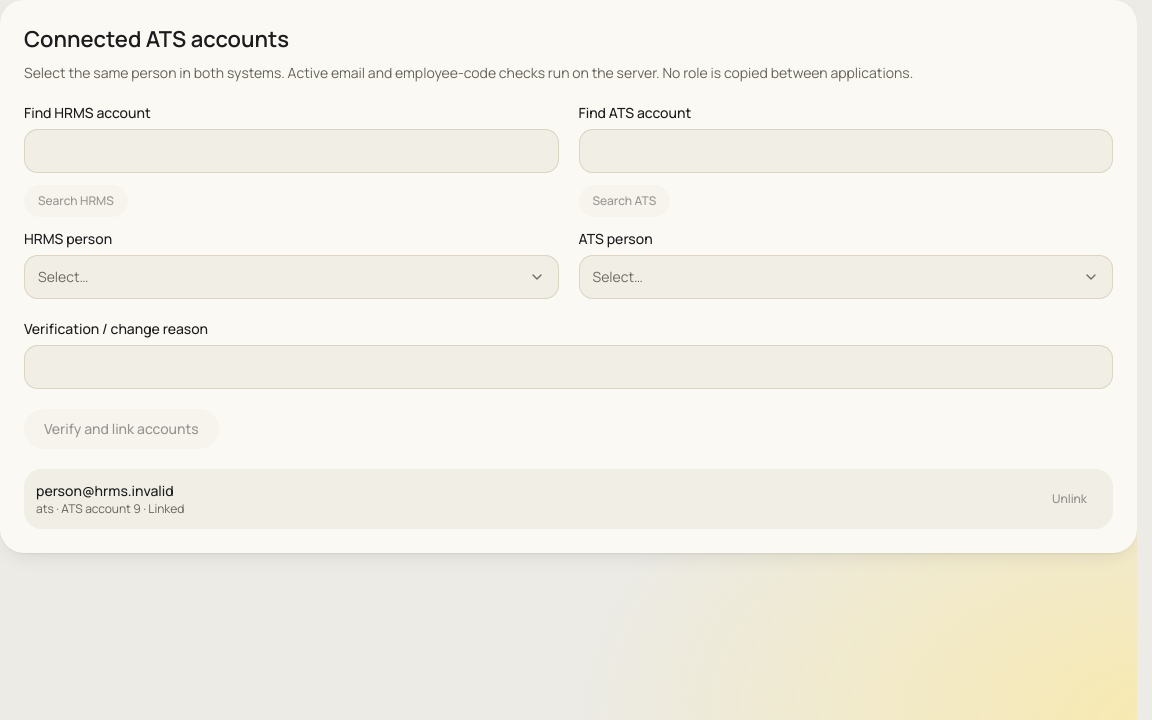
Test: retains the reason and shows a failed unlink instead of claiming success
The width and height of the screenshot is (1152, 720).
Check: the button "Unlink" is disabled, box [1038,483,1101,515]
In the field labelled "Verification / change reason": (568, 367) [24,345,1113,389], type "Access removed"
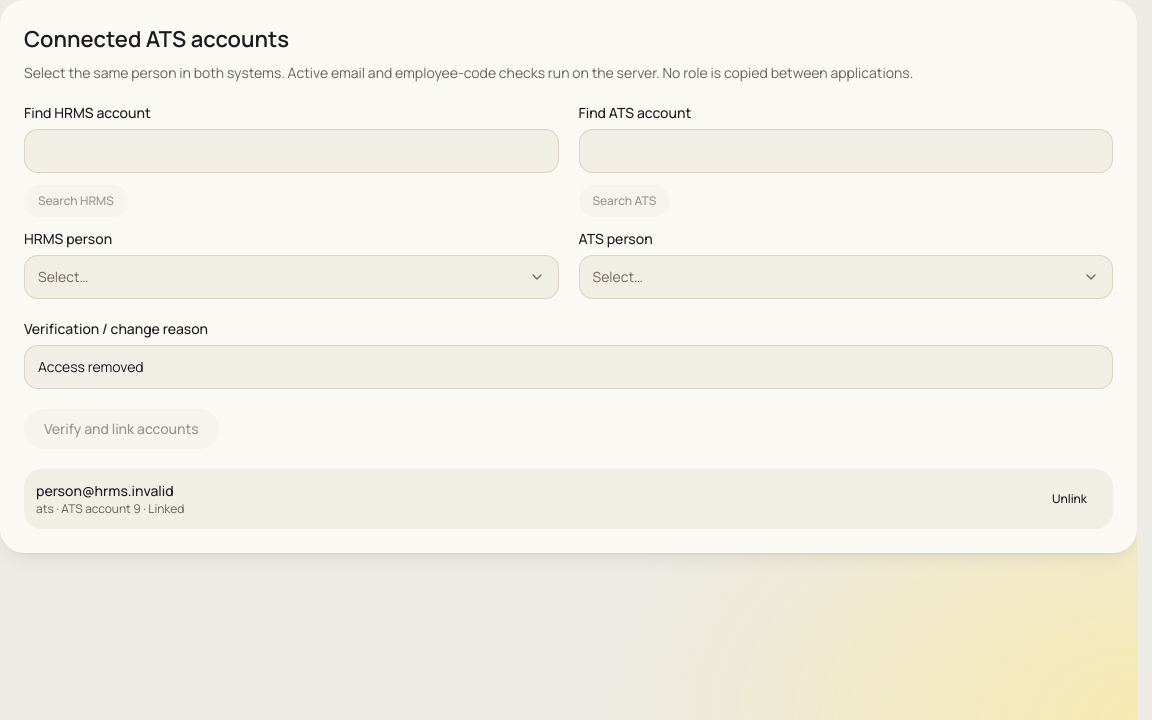
Click the button "Unlink": (1069, 499) [1038,483,1101,515]
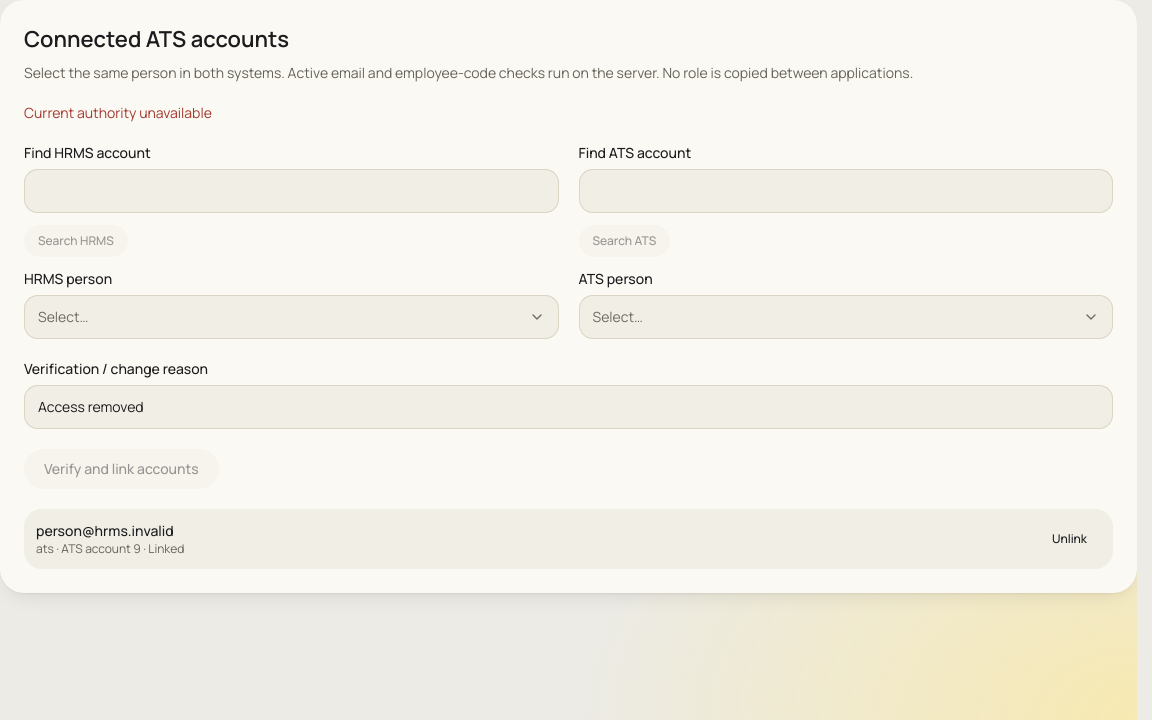
Check: the message reads "Current authority unavailable", box [24,103,212,122]
